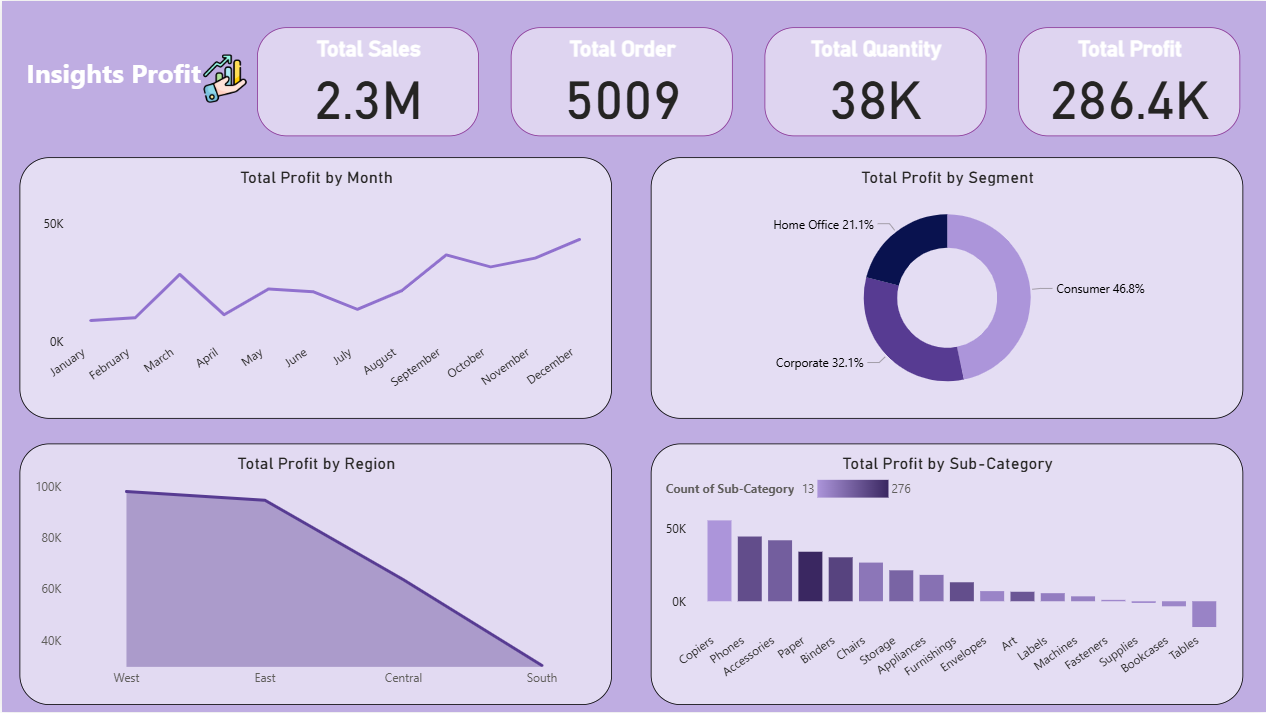

This screenshot's page, from the dashboard's own definition file:
{"tool":"powerbi","page":{"name":"Page 4","canvas":[1280,720],"ordinal":3},"visuals":[{"type":"card","title":"Total Order","fields":{"Values":["Dax_Measure.Total orders"]},"box":[515.7,27,225,110],"z":0},{"type":"card","title":"Total Sales","fields":{"Values":["Dax_Measure.Total Sales"]},"box":[258.8,27,225,110],"z":1000},{"type":"card","title":"Total Quantity","fields":{"Values":["Dax_Measure.Total Quantity"]},"box":[772.7,27,225,110],"z":2000},{"type":"card","title":"Total Profit","fields":{"Values":["Dax_Measure.Total Profit"]},"box":[1029.7,27,225,110],"z":3000},{"type":"lineChart","fields":{"Category":["DateDim.Order Date.Variation.Date Hierarchy.Year","DateDim.Order Date.Variation.Date Hierarchy.Quarter","DateDim.Order Date.Variation.Date Hierarchy.Month","DateDim.Order Date.Variation.Date Hierarchy.Day"],"Y":["Dax_Measure.Total Profit"]},"box":[18.1,158,600,265],"z":4000},{"type":"donutChart","fields":{"Y":["Dax_Measure.Total Profit"],"Category":["CustomerDim.Segment"]},"box":[657.5,158,600,265],"z":5000},{"type":"textbox","box":[0,49.4,226.6,67.1],"z":6000},{"type":"columnChart","fields":{"Category":["ProductDim.Sub-Category"],"Y":["Dax_Measure.Total Profit"]},"box":[657.5,447.6,600,265],"z":7001},{"type":"areaChart","fields":{"Y":["Dax_Measure.Total Profit"],"Category":["CustomerDim.Region"]},"box":[17.7,448.1,600,265],"z":7002},{"type":"image","box":[194.9,49.4,62,58.2],"z":7003}]}

Visuals, with their boxes in screenshot pixels (x1, y1, x2, y2), scaled from the page's 1280x720 canvas onto the 1266x713 screenshot:
"Total Order" card: region(510, 27, 733, 136)
"Total Sales" card: region(256, 27, 479, 136)
"Total Quantity" card: region(764, 27, 987, 136)
"Total Profit" card: region(1018, 27, 1241, 136)
lineChart - DateDim.Order Date.Variation.Date Hierarchy.Year x DateDim.Order Date.Variation.Date Hierarchy.Quarter: region(18, 156, 611, 419)
donutChart - Dax_Measure.Total Profit x CustomerDim.Segment: region(650, 156, 1244, 419)
textbox: region(0, 49, 224, 115)
columnChart - ProductDim.Sub-Category x Dax_Measure.Total Profit: region(650, 443, 1244, 706)
areaChart - Dax_Measure.Total Profit x CustomerDim.Region: region(18, 444, 611, 706)
image: region(193, 49, 254, 107)
